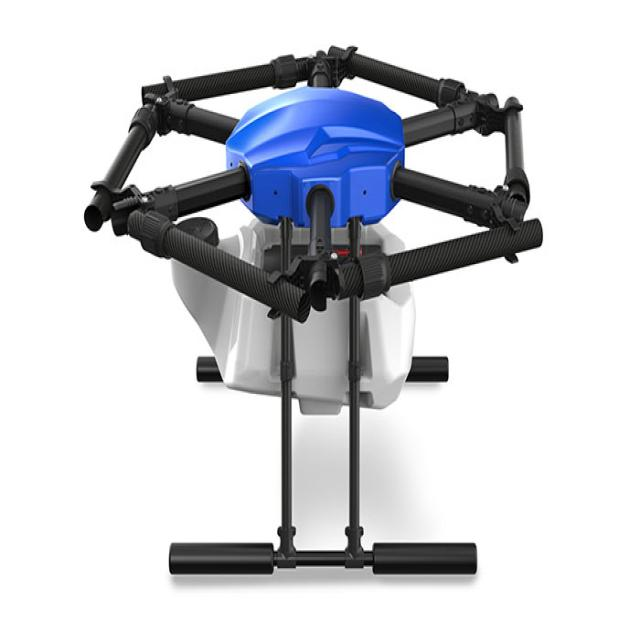drone: (13, 21, 612, 617)
